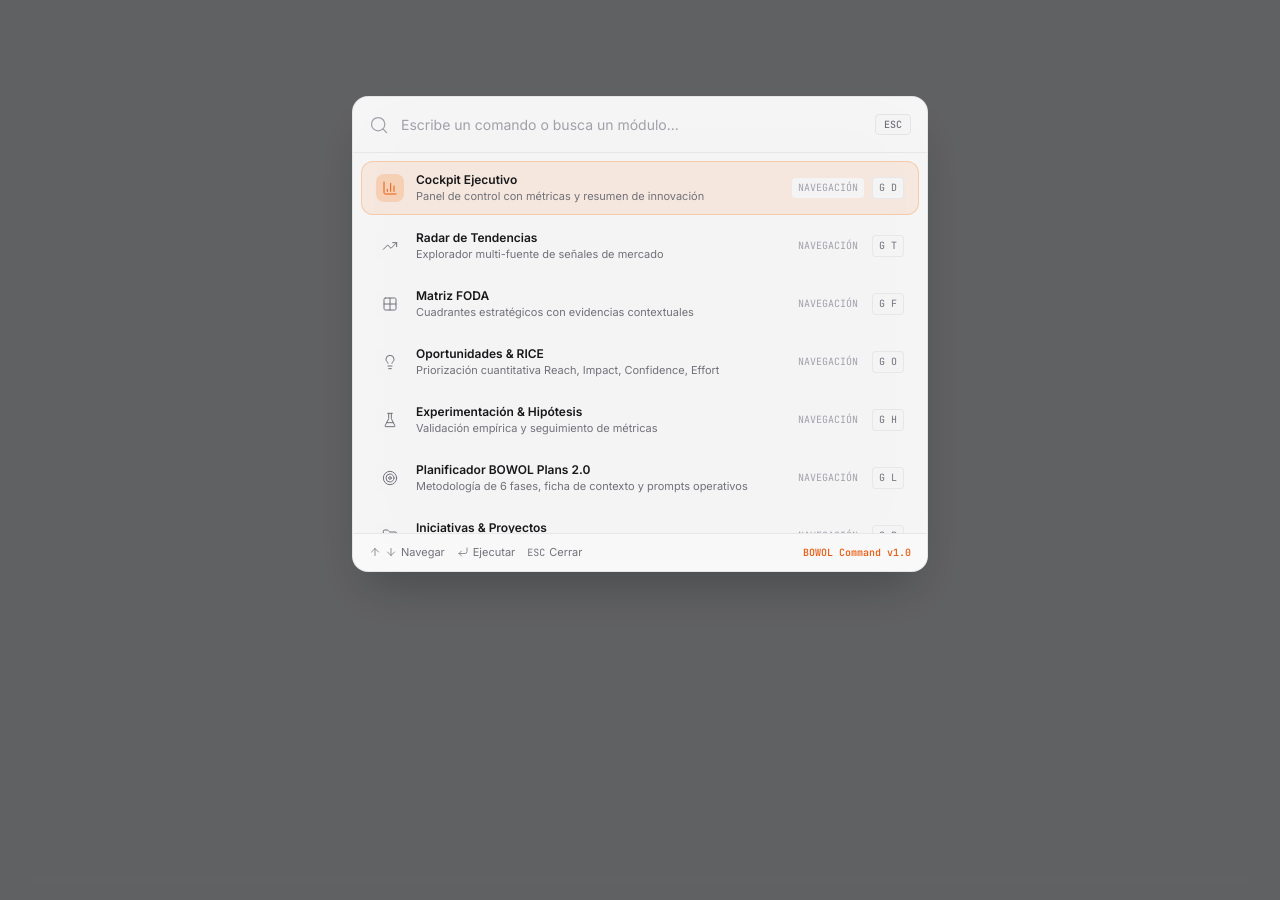
it: CommandPalette Component › muestra estado vacío cuando no hay resultados coincidentes
Type "xyzpalabranoexistente" into the field with placeholder "Escribe un comando o busca un módulo..." at (632, 124), box x1=401 y1=114 x2=863 y2=134
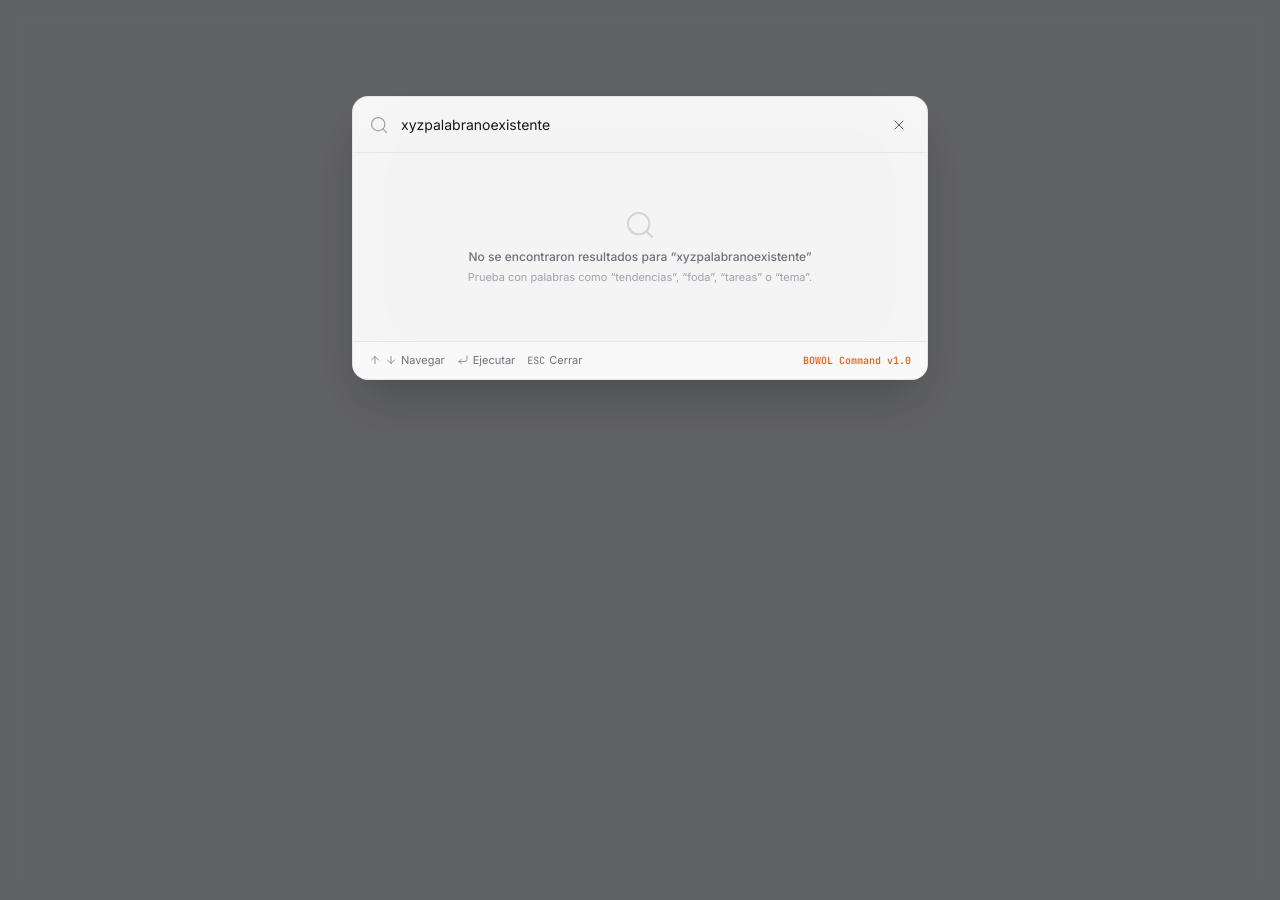
Expected: the text "No se encontraron resultados para “xyzpalabranoexistente”" is shown, x1=468 y1=249 x2=812 y2=264
